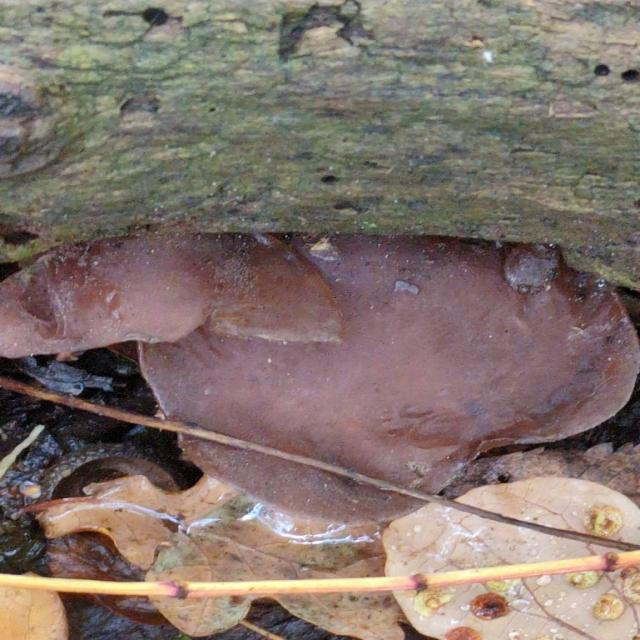Matang: (136, 225, 640, 531), (0, 227, 357, 368)
